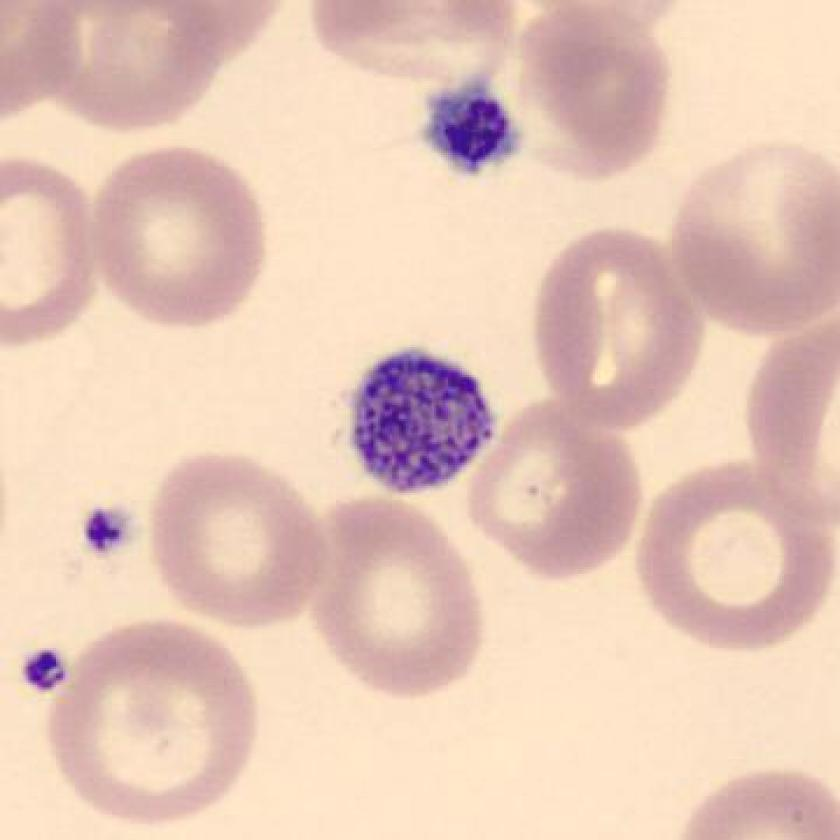platelets: (337, 339, 505, 503), (416, 68, 533, 191), (76, 494, 150, 566), (15, 635, 78, 709)
